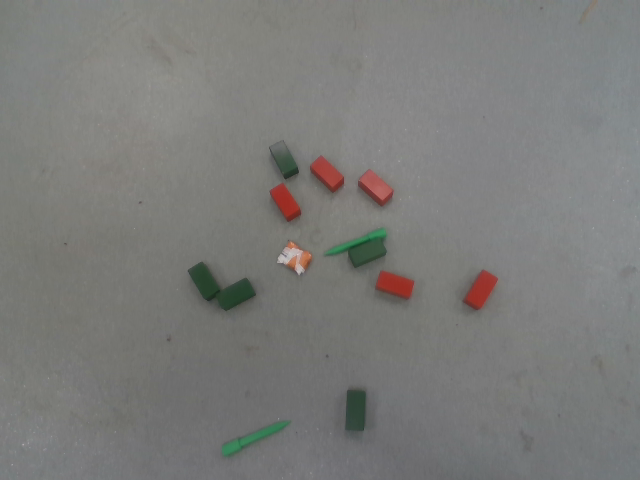Probe: (220, 416, 293, 458), (322, 225, 387, 257)
